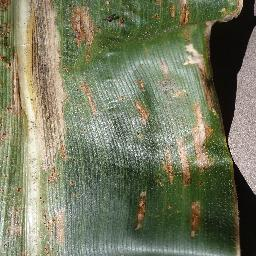Gray_Leaf_Spot: (0, 0, 67, 256), (168, 0, 245, 66), (186, 70, 229, 169), (66, 0, 106, 63), (228, 168, 246, 256), (162, 133, 185, 184), (131, 183, 150, 237), (187, 193, 207, 241), (160, 60, 185, 98), (76, 80, 98, 118), (107, 6, 133, 37), (129, 97, 150, 125), (184, 170, 208, 190), (144, 0, 166, 21), (133, 74, 150, 90)
